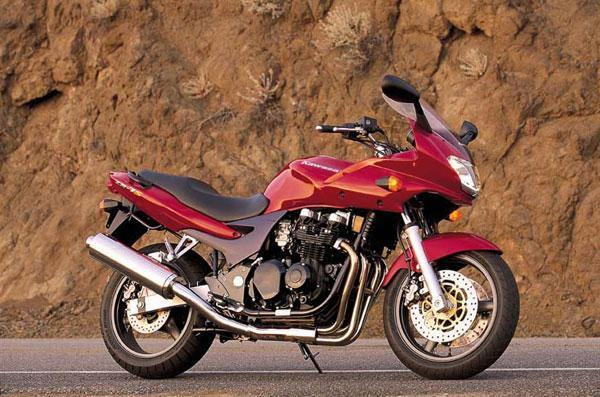motorcycle: (87, 71, 521, 387)
